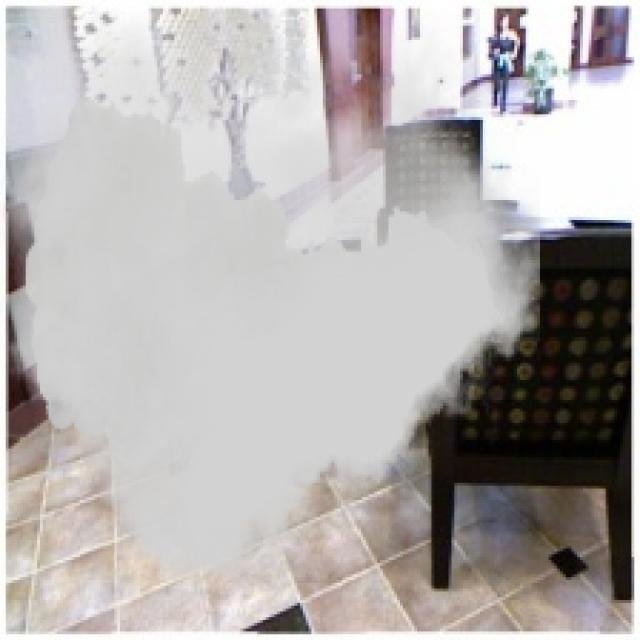smoke: (0, 11, 540, 580)
